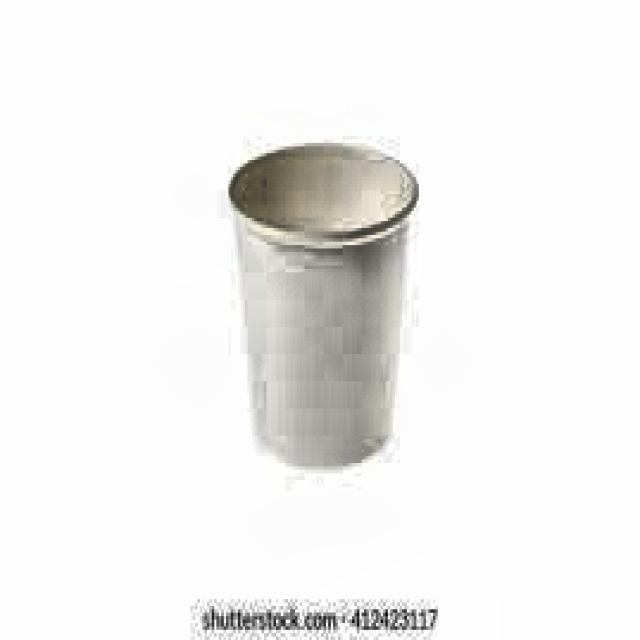Cup: (228, 136, 423, 488)
